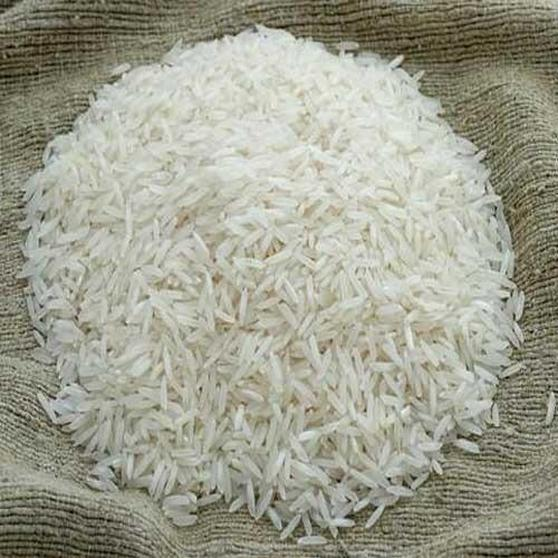rice: (35, 36, 535, 524)
